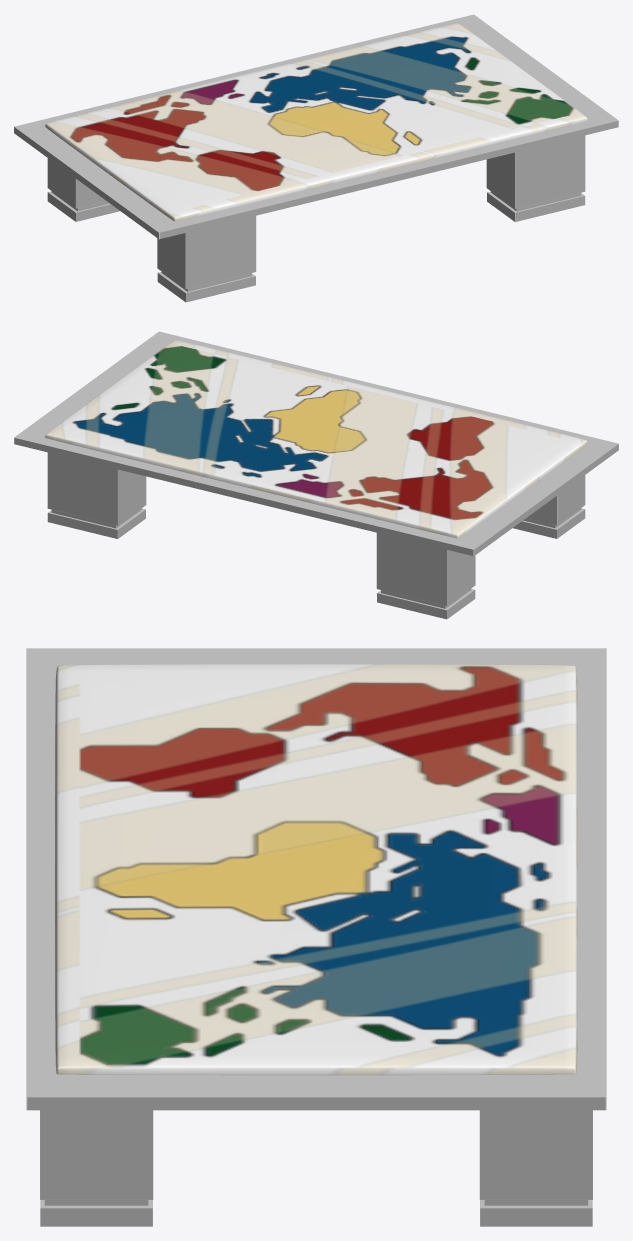
Rendered from Mesa_Central.obj.
3 views of the same model, one above another, from view 1: azimuth 30°, elevation 25°; view 2: azimuth 150°, elevation 25°; view 3: azimuth 270°, elevation 25° (orthographic). The views are drawn at different scales.
Parts seen in each view (by area): view 1: Mapa(Mesa_Central), Mesa_Central; view 2: Mapa(Mesa_Central), Mesa_Central; view 3: Mapa(Mesa_Central), Mesa_Central.
Part boxes in pixels (box(x1,y1,x2,y2)): Mapa(Mesa_Central): box(45, 23, 587, 221); Mesa_Central: box(14, 14, 618, 302); Mapa(Mesa_Central): box(45, 340, 587, 538); Mesa_Central: box(14, 331, 618, 619); Mapa(Mesa_Central): box(55, 664, 577, 1075); Mesa_Central: box(26, 648, 606, 1226).
Size of the model in its own units: 8.19 by 1.44 by 4.48.
1 material, 1 textured.
